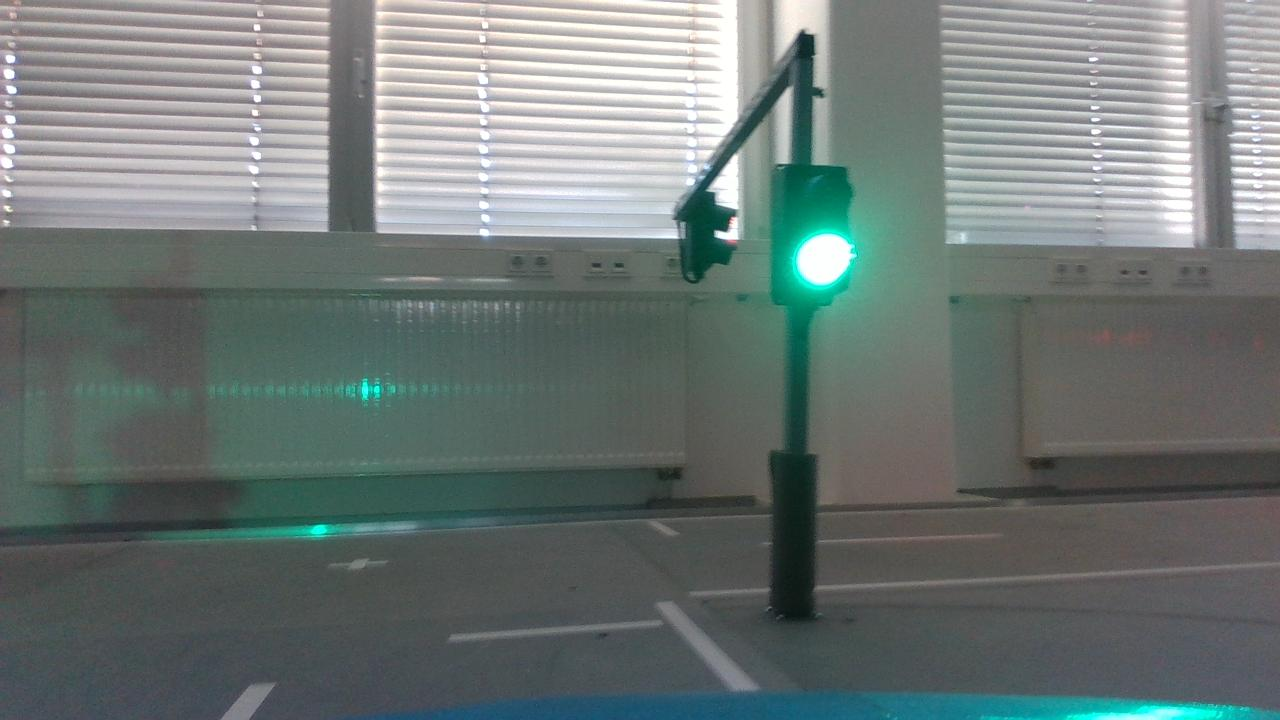traffic_light_green: (756, 160, 871, 313)
